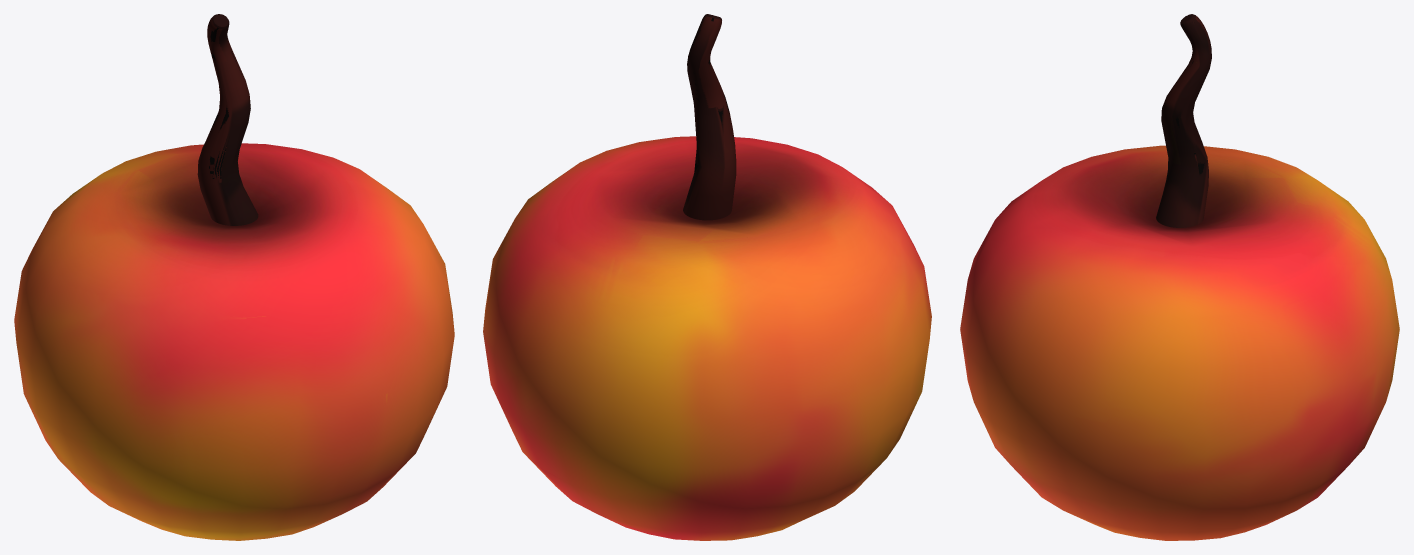
Rendered from apple_a1.obj.
The picture shows the model from 3 angles, left to right: view 1: azimuth 30°, elevation 25°; view 2: azimuth 150°, elevation 25°; view 3: azimuth 270°, elevation 25°; orthographic projection. The views are drawn at different scales.
Visible parts, largest first — view 1: Sphere; view 2: Sphere; view 3: Sphere.
Boxes of the visible parts, box(x1,y1,x2,y2) form: Sphere: box(14, 14, 454, 540); Sphere: box(483, 14, 931, 540); Sphere: box(960, 14, 1399, 540).
Size of the model in its own units: 1.82 by 2.26 by 1.84.
